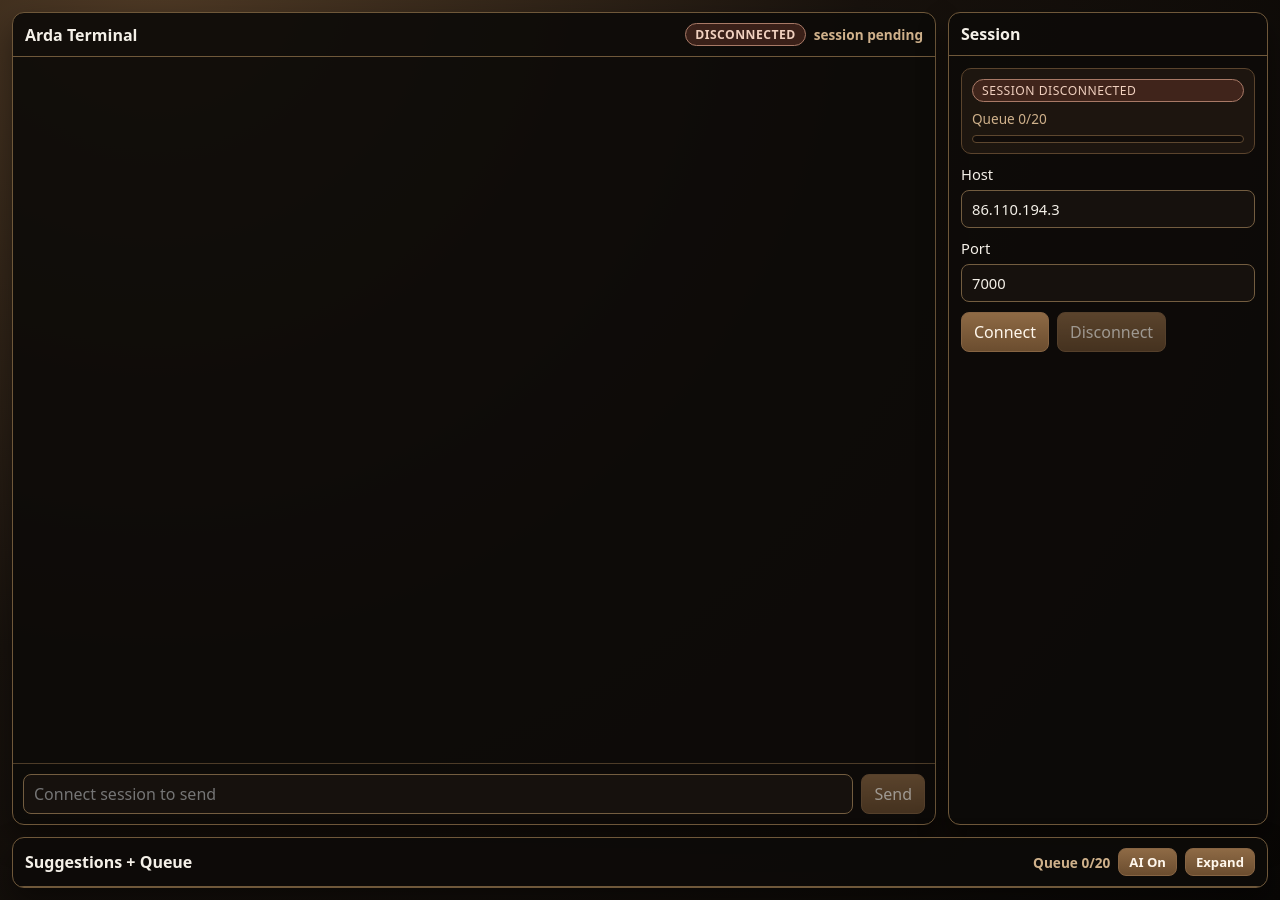
Test: App suggestions › clears suggestion and starts a new cycle when refused
Step 1. Click the button "Expand" → (1220, 862), box [1185,848,1255,876]
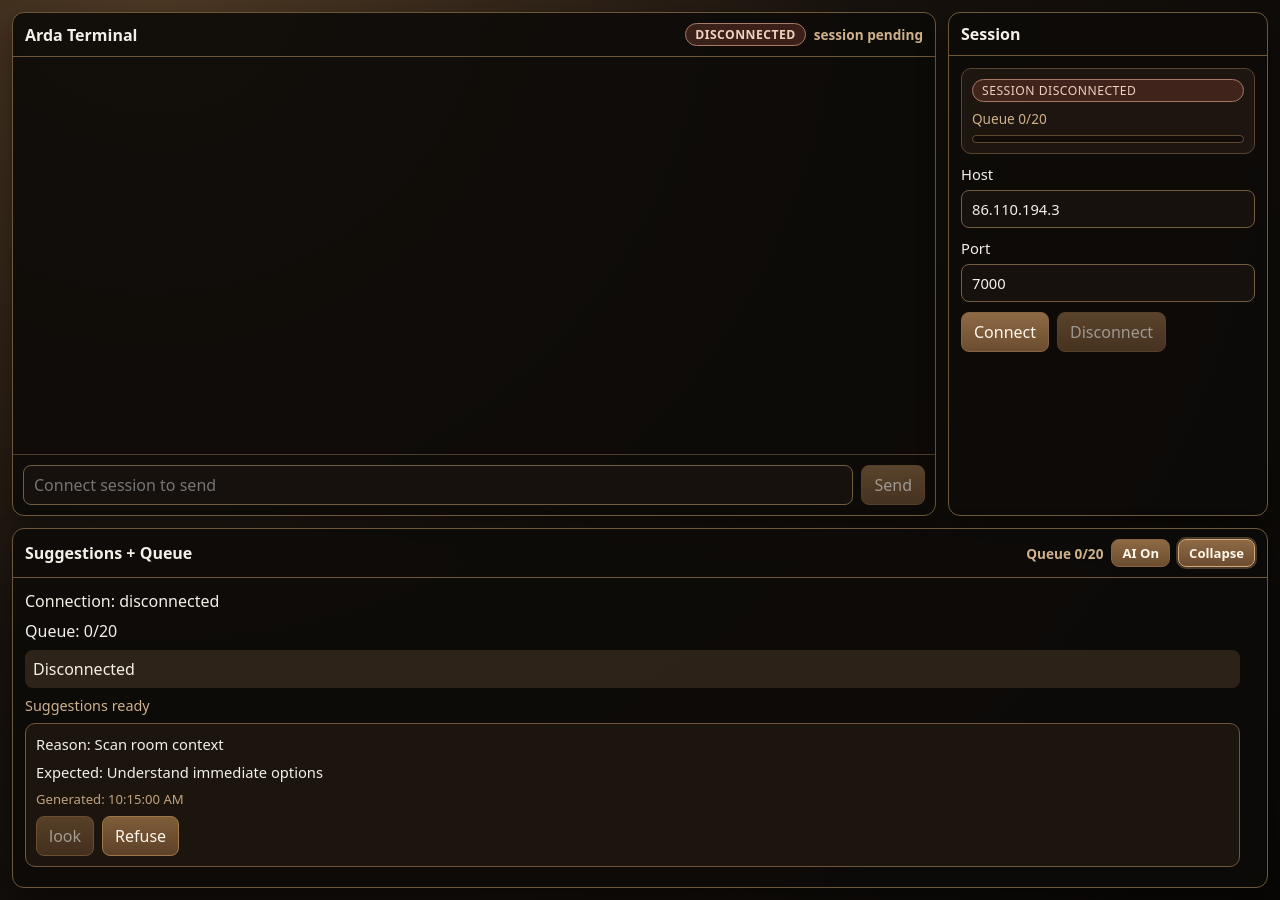
Step 2. Click the button "Refuse" → (141, 836), box [102,816,179,856]
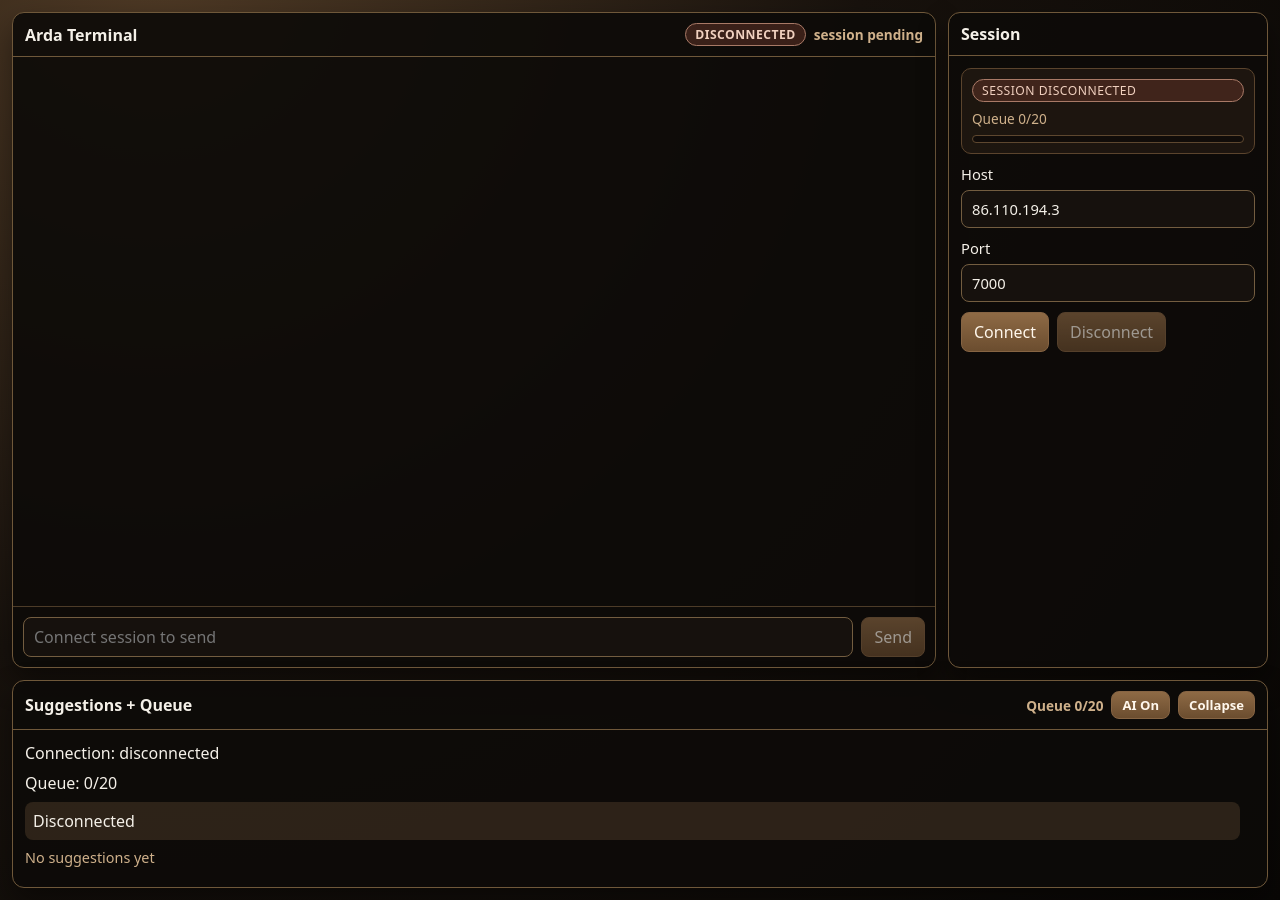
Check: the text "Reason: Scan room context" is gone
